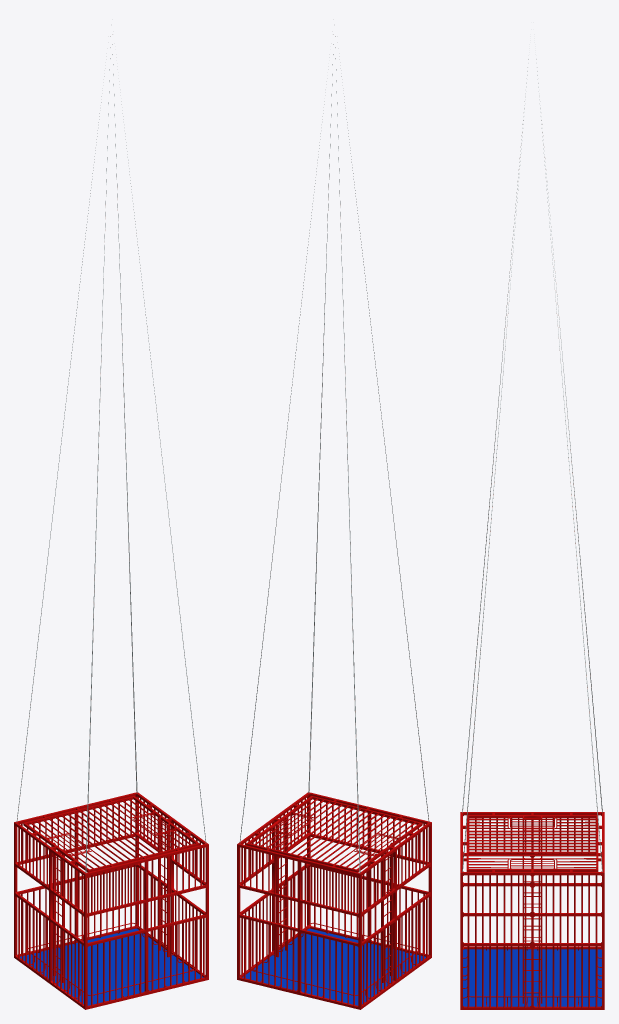
The picture shows the model from 3 angles, left to right: view 1: azimuth 30°, elevation 25°; view 2: azimuth 150°, elevation 25°; view 3: azimuth 270°, elevation 25°; orthographic projection.
Parts seen in each view (by area): view 1: Cage_3, Rope_2; view 2: Cage_3, Rope_2; view 3: Cage_3, Rope_2, CageEntrance_02_1.
Boxes of the visible parts, x1,y1,x2,y2 form: Cage_3: (14, 792, 208, 1009); Rope_2: (16, 34, 206, 872); Cage_3: (237, 792, 431, 1009); Rope_2: (239, 34, 429, 872); Cage_3: (460, 812, 604, 1009); Rope_2: (462, 59, 602, 871); CageEntrance_02_1: (510, 817, 554, 828).
Size of the model in its own units: 2.04 by 15.03 by 2.04.
